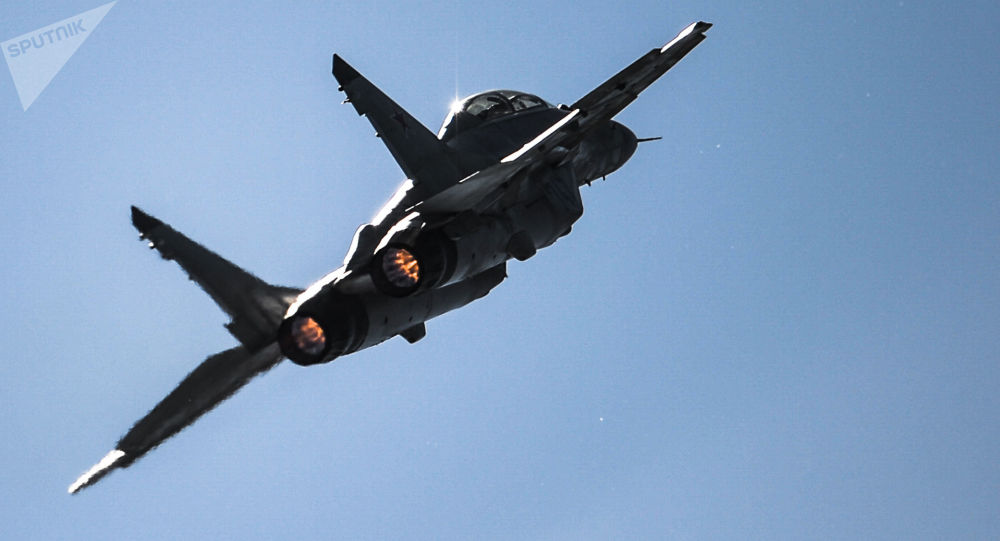Mig-29: (85, 16, 721, 400)
